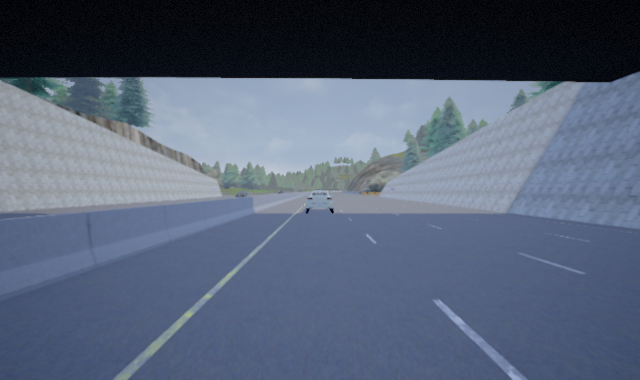vehicle: (304, 190, 334, 213)
